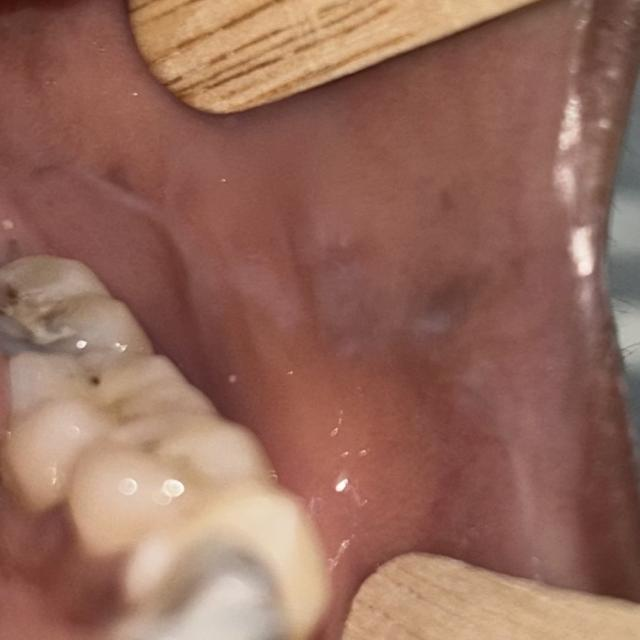leukoplakia-detection: (27, 141, 592, 584)
processing_area: (0, 0, 597, 592)
